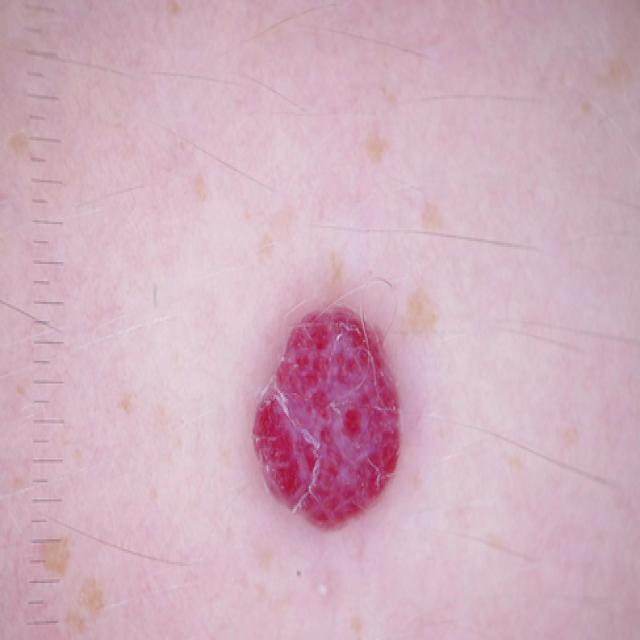Vascular Lesions: (231, 234, 445, 573)
